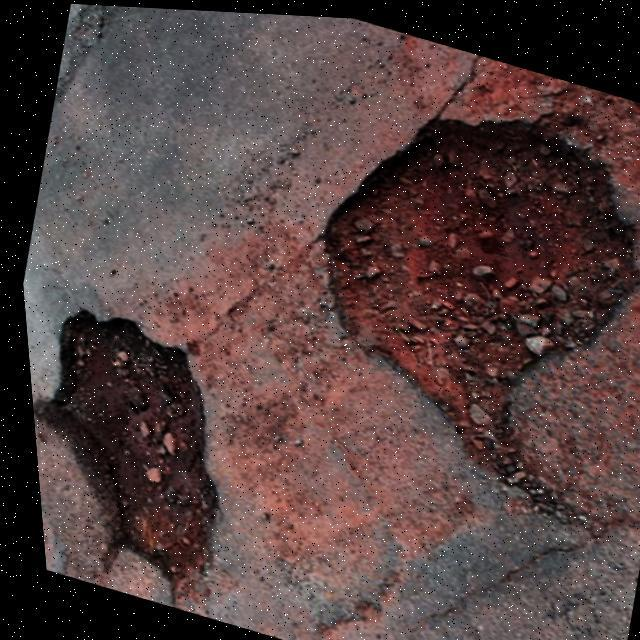pothole: (248, 60, 640, 522), (18, 294, 258, 593)
